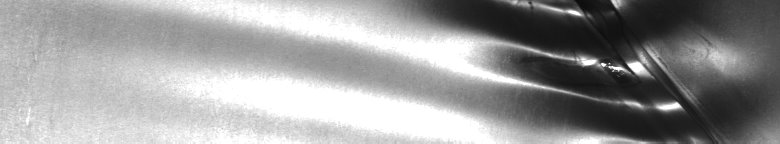ke: (463, 4, 696, 136)
